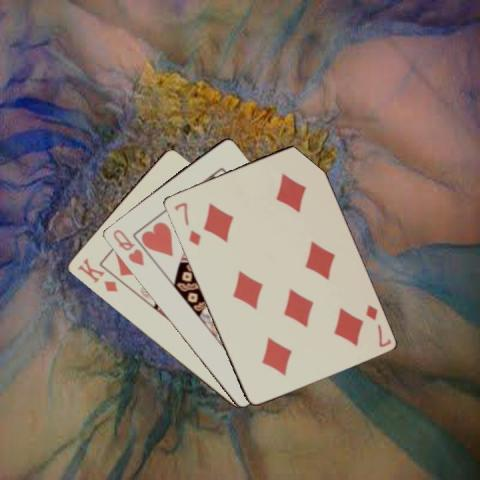7d: (171, 199, 202, 247), (362, 301, 392, 349)
Kd: (74, 255, 119, 294)
Qh: (110, 226, 146, 267)
